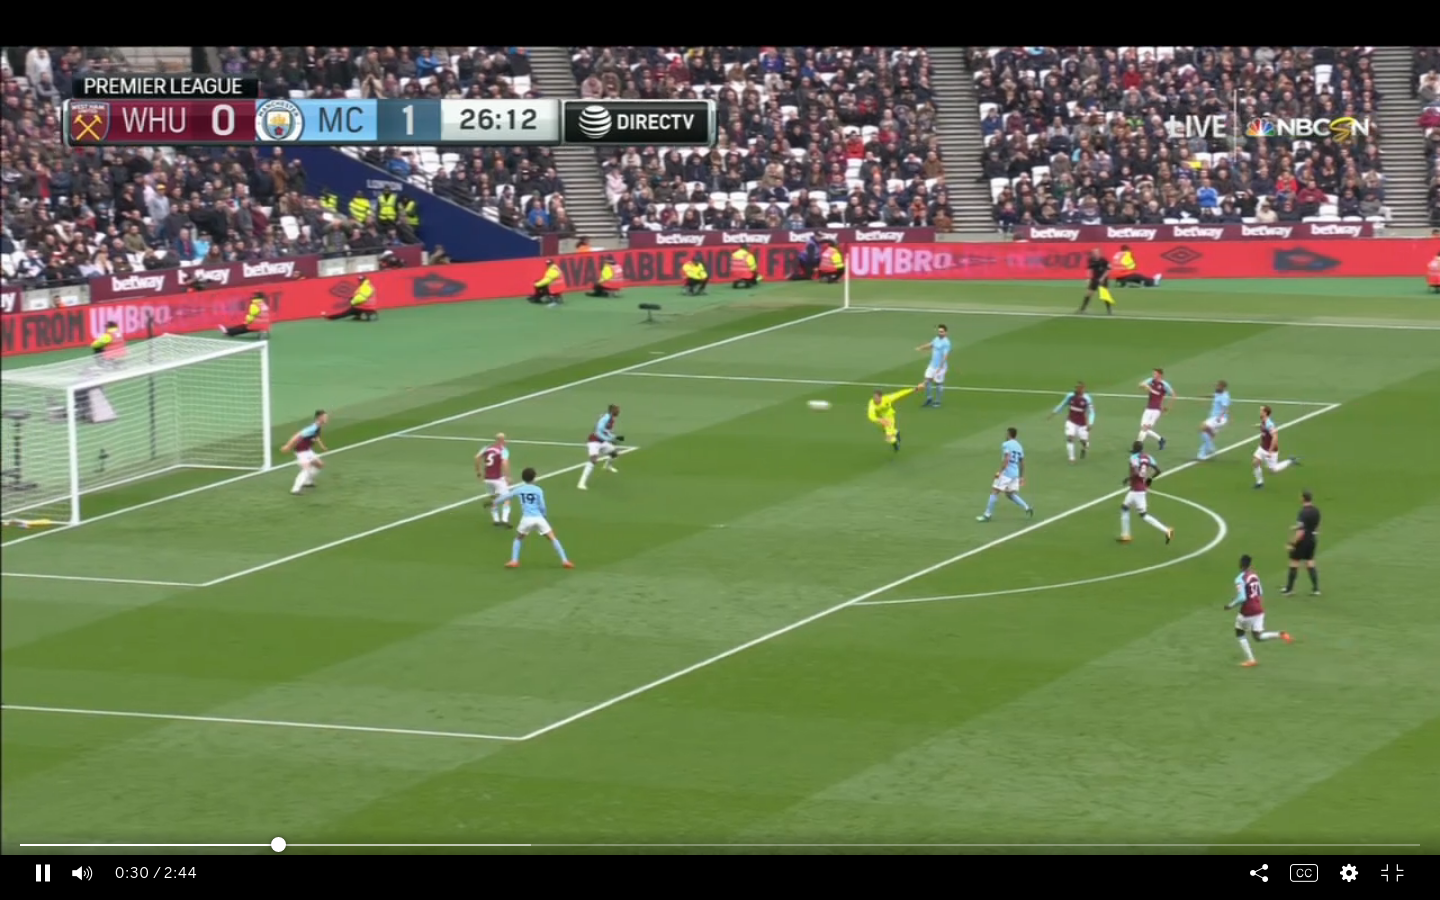referee: (1284, 488, 1328, 605), (1072, 242, 1118, 326)
soccer player: (496, 469, 572, 574), (1227, 551, 1292, 676), (975, 419, 1038, 534), (275, 400, 339, 506), (1115, 440, 1175, 554), (576, 402, 630, 499), (1248, 396, 1299, 491), (864, 377, 925, 456), (472, 426, 518, 528), (1132, 362, 1178, 463), (1050, 374, 1099, 469), (1195, 377, 1236, 477), (915, 322, 953, 412)
soccerball: (796, 386, 838, 417)
